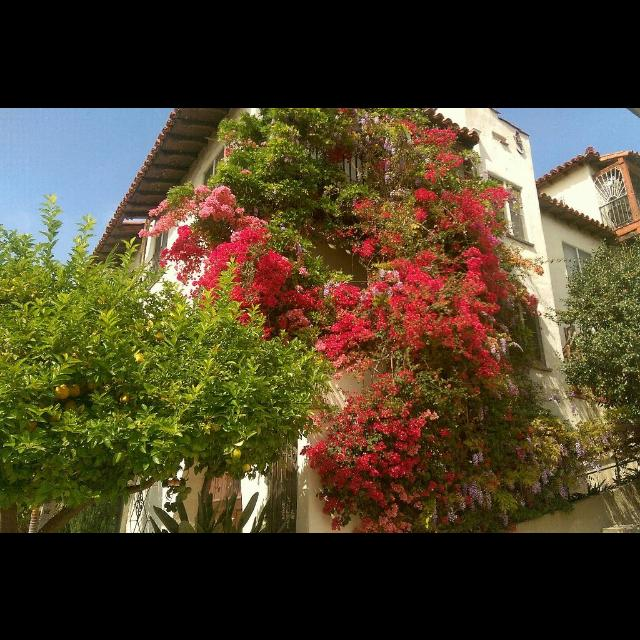Flower: (136, 108, 600, 532)
